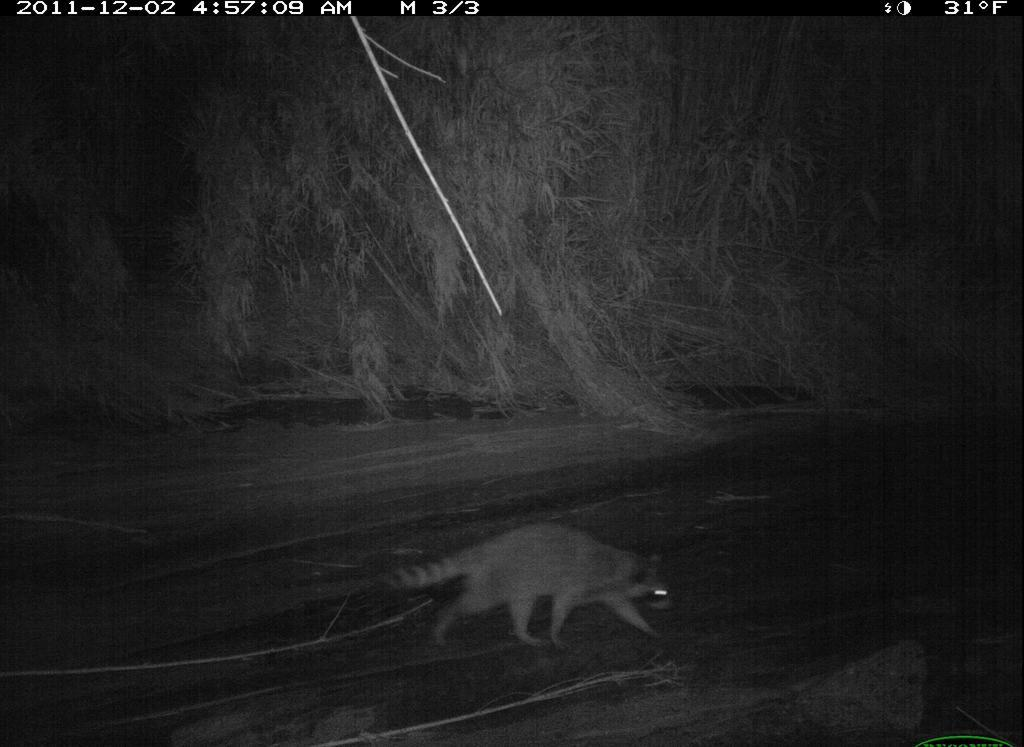raccoon: (373, 515, 687, 655)
